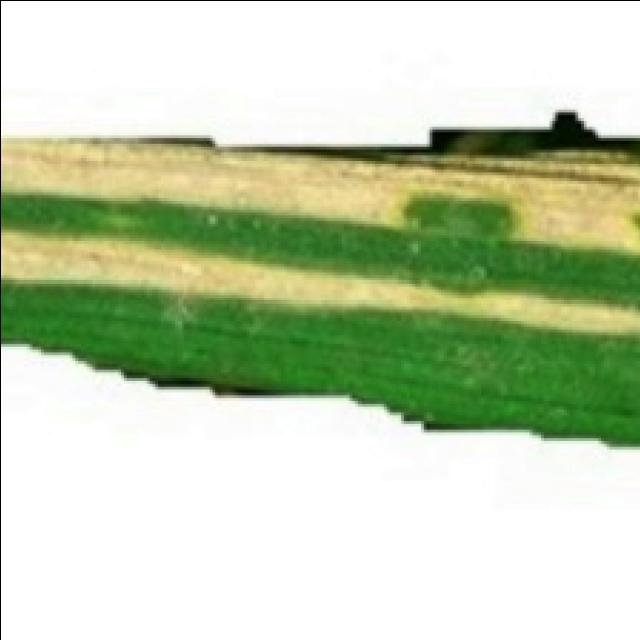Unhealthy: (0, 136, 640, 258), (0, 228, 640, 336)
